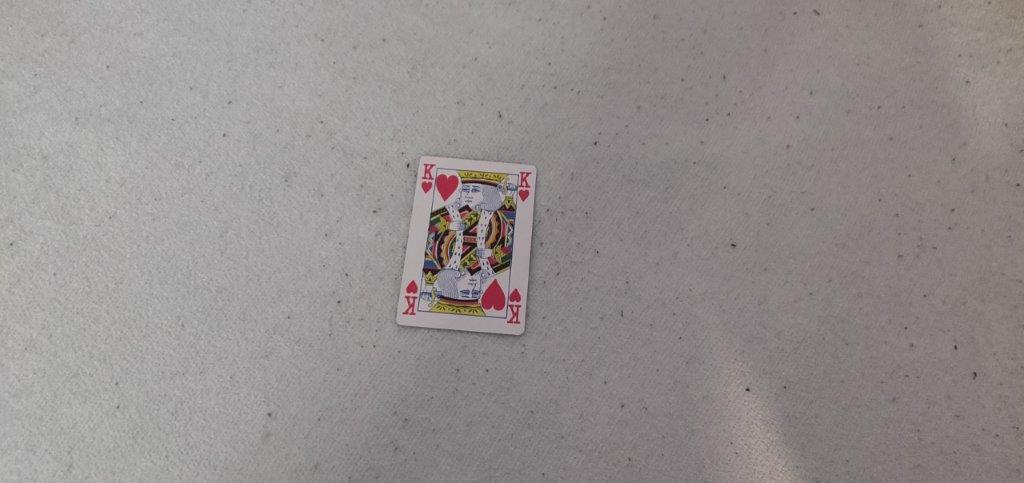KH: (416, 161, 439, 197), (515, 170, 536, 206)
